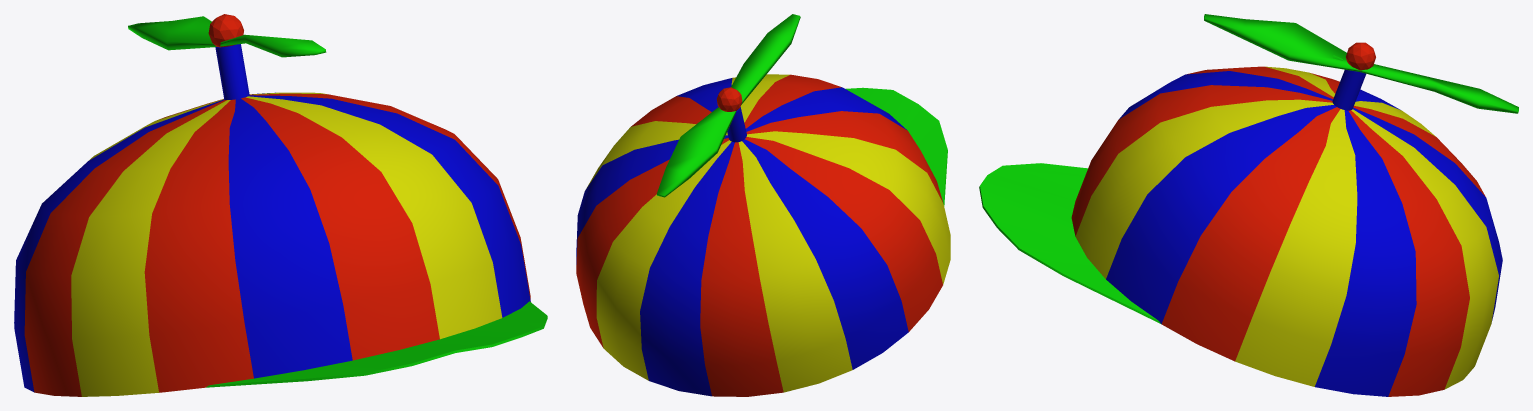
File: SM_Propellor-Hat.fbx
The picture shows the model from 3 angles, left to right: view 1: azimuth 30°, elevation 25°; view 2: azimuth 150°, elevation 25°; view 3: azimuth 270°, elevation 25°; orthographic projection. The views are drawn at different scales.
Parts seen in each view (by area): view 1: Hat, Propellor, hat-top; view 2: Hat, Propellor, hat-top; view 3: Hat, Propellor, hat-top.
Boxes of the visible parts, x1,y1,x2,y2 form: Hat: [14, 44, 547, 396]; Propellor: [128, 16, 326, 57]; hat-top: [208, 14, 243, 47]; Hat: [576, 74, 950, 396]; Propellor: [657, 14, 800, 197]; hat-top: [716, 87, 742, 111]; Hat: [979, 66, 1502, 396]; Propellor: [1204, 14, 1518, 113]; hat-top: [1346, 42, 1375, 70].
Size of the model in its own units: 200 by 171 by 249.
